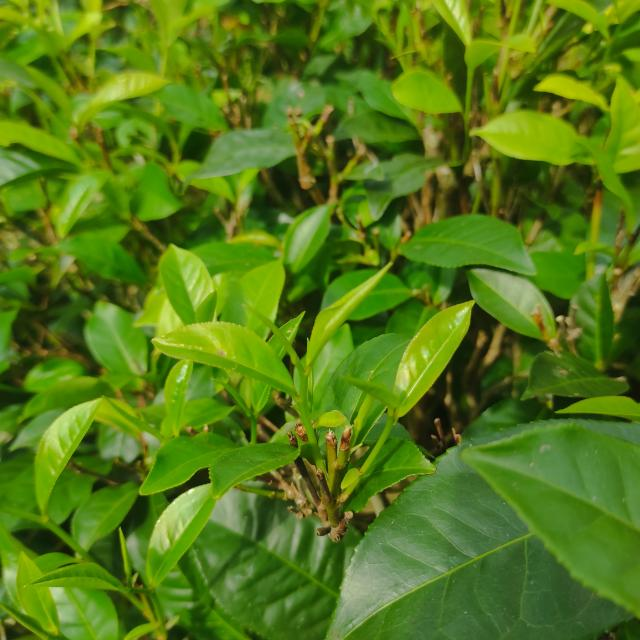unopened_leaf: (236, 294, 306, 375), (102, 396, 170, 444), (335, 368, 400, 408), (112, 521, 139, 593), (211, 376, 255, 418)
